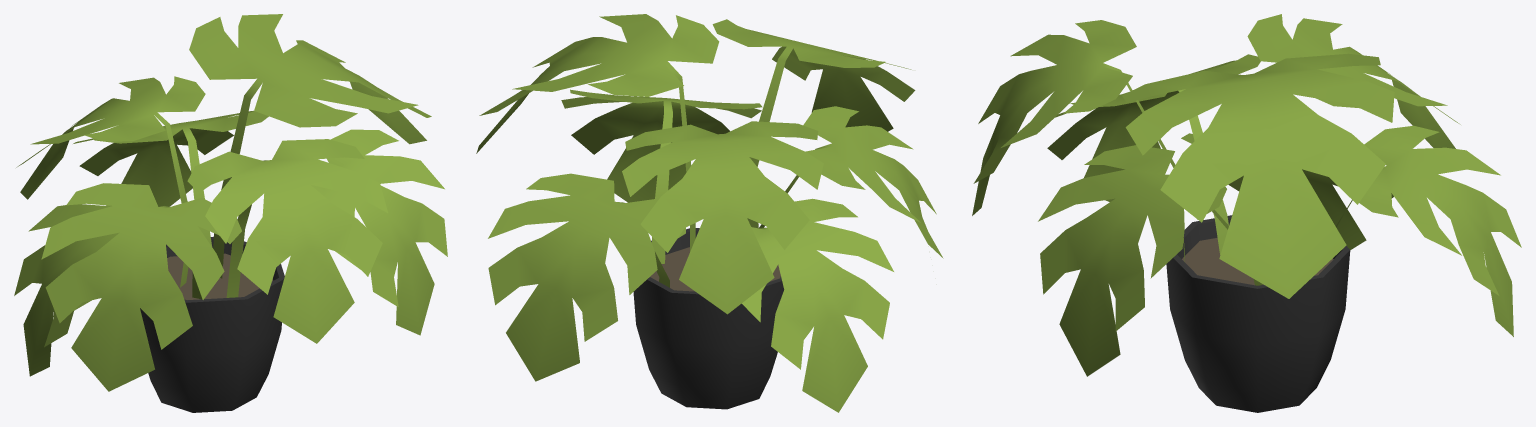
File: Plant_4_GD.glb
3 views of the same model, side by side, from view 1: azimuth 30°, elevation 25°; view 2: azimuth 150°, elevation 25°; view 3: azimuth 270°, elevation 25° (orthographic). The views are drawn at different scales.
Visible parts, largest first — view 1: Houseplant_7; view 2: Houseplant_7; view 3: Houseplant_7.
Boxes of the visible parts, box(x1,y1,x2,y2) form: Houseplant_7: box(14, 14, 447, 412); Houseplant_7: box(476, 14, 943, 412); Houseplant_7: box(972, 14, 1521, 412).
Bounding box in the file's own units: 8.75 × 6.61 × 9.15.
